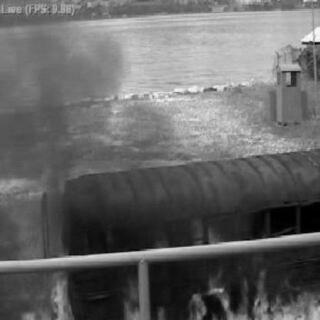Fire: (0, 183, 318, 317)
